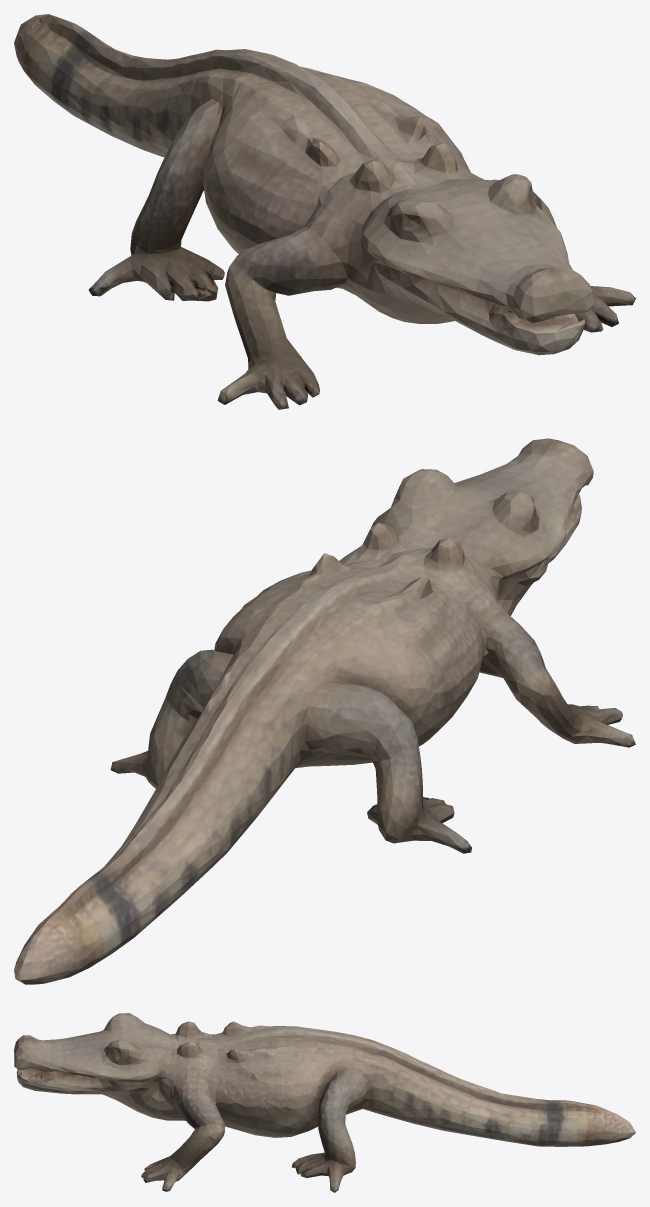
Rendered from crocodile.glb.
3 views of the same model, one above another, from view 1: azimuth 30°, elevation 25°; view 2: azimuth 150°, elevation 25°; view 3: azimuth 270°, elevation 25° (orthographic). The views are drawn at different scales.
Visible parts, largest first — view 1: world; view 2: world; view 3: world.
Boxes of the visible parts, bbox=[...] form: world: bbox=[14, 14, 635, 409]; world: bbox=[14, 438, 635, 984]; world: bbox=[14, 1013, 635, 1192].
Bounding box in the file's own units: 0.4359 × 0.2041 × 0.999.
Materials: 1 (1 with a texture image).
